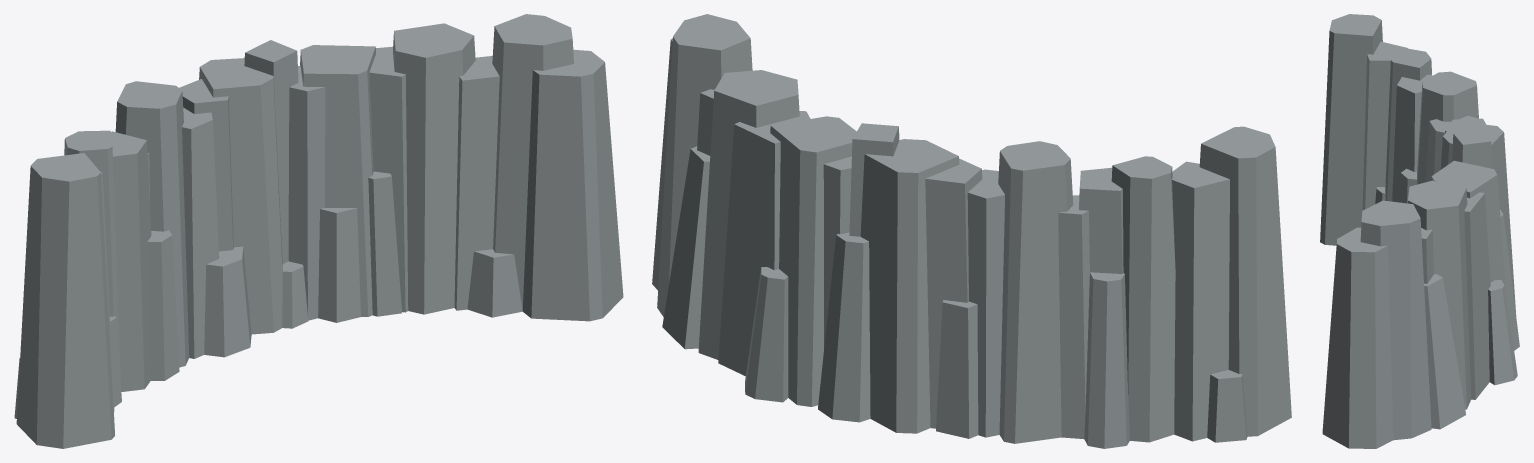
File: NHP_Rock_Wall_Round_A1_02.fbx
The picture shows the model from 3 angles, left to right: view 1: azimuth 30°, elevation 25°; view 2: azimuth 150°, elevation 25°; view 3: azimuth 270°, elevation 25°; orthographic projection. The views are drawn at different scales.
Visible parts, largest first — view 1: NHP_Rock_Wall_Round_A1_02; view 2: NHP_Rock_Wall_Round_A1_02; view 3: NHP_Rock_Wall_Round_A1_02.
Part boxes in pixels (x1,y1,x2,y2): NHP_Rock_Wall_Round_A1_02: (14,14,623,448); NHP_Rock_Wall_Round_A1_02: (652,14,1291,448); NHP_Rock_Wall_Round_A1_02: (1320,14,1519,448).
Bounding box in the file's own units: 29.59 × 12.57 × 10.84.
